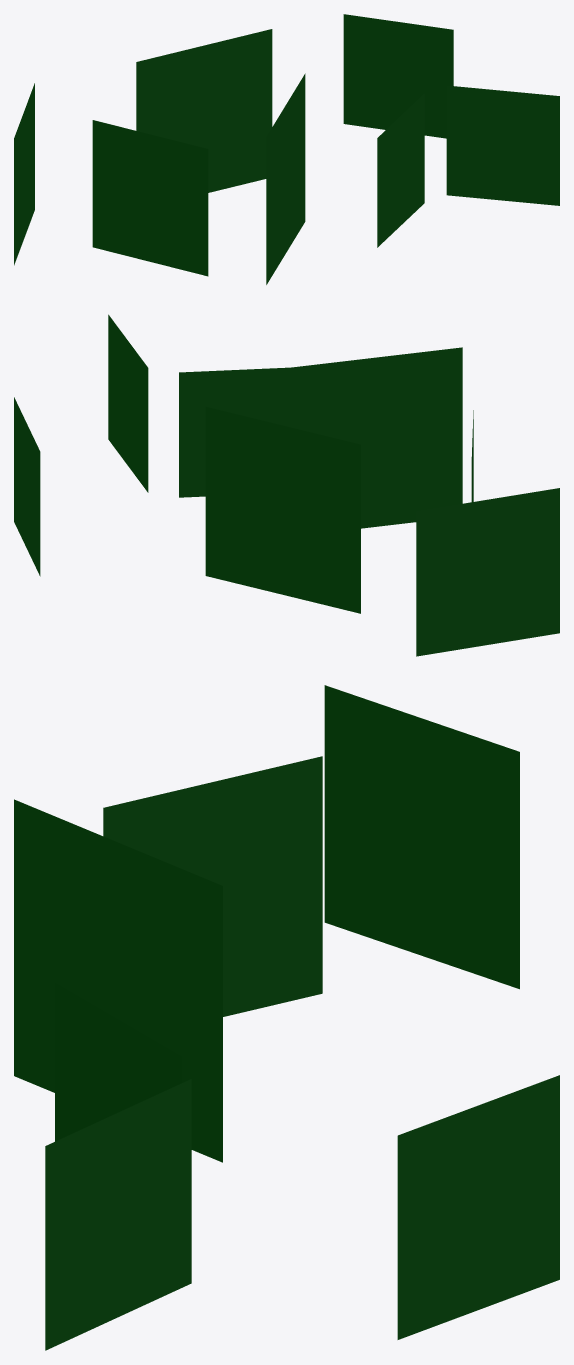
File: Town_Grass.glb
3 renders of one model, top to bottom at view 1: azimuth 30°, elevation 25°; view 2: azimuth 150°, elevation 25°; view 3: azimuth 270°, elevation 25°, orthographic. The views are drawn at different scales.
Parts seen in each view (by area): view 1: Object_4.003; view 2: Object_4.003; view 3: Object_4.003.
Part boxes in pixels (bbox=[...]): Object_4.003: bbox=[14, 14, 559, 284]; Object_4.003: bbox=[14, 314, 559, 656]; Object_4.003: bbox=[14, 685, 559, 1350].
Bounding box in the file's own units: 50.32 × 15.16 × 27.11.
